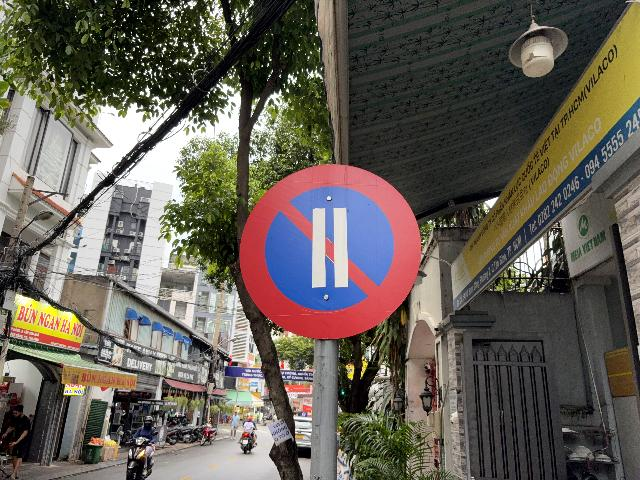cam-do-xe-ngay-chan: (240, 163, 421, 340)
